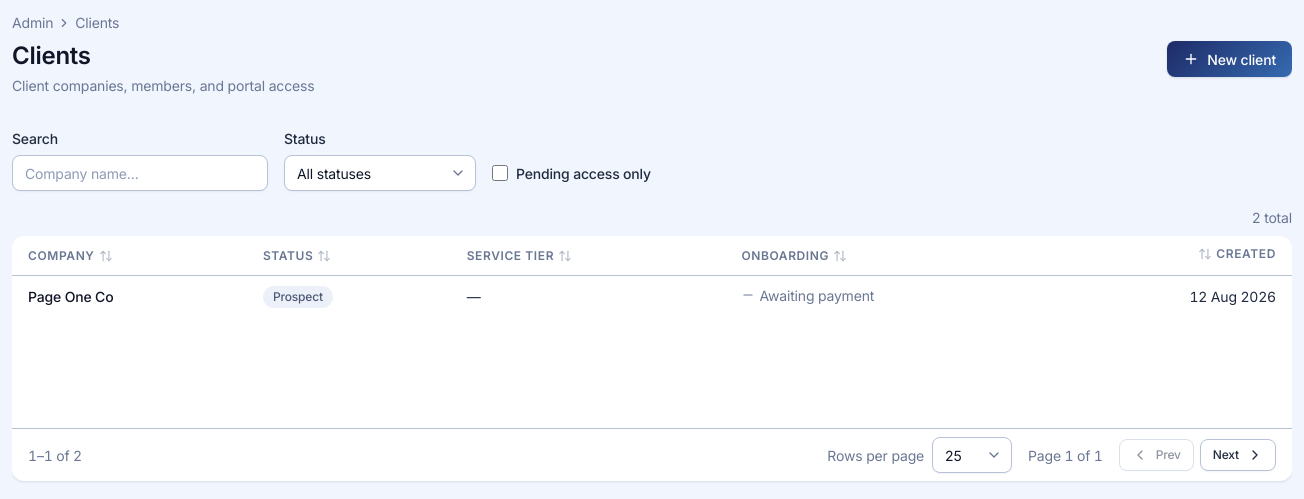
Test: clients list › sends the page size as ?limit= and resets to page 1 when it changes
Check: the text "Page One Co" is shown, box x1=28 y1=288 x2=114 y2=304
Walk to page 2, then change the page size …
Click the button with aria-label "Next page" at (1238, 455), box x1=1200 y1=439 x2=1276 y2=471
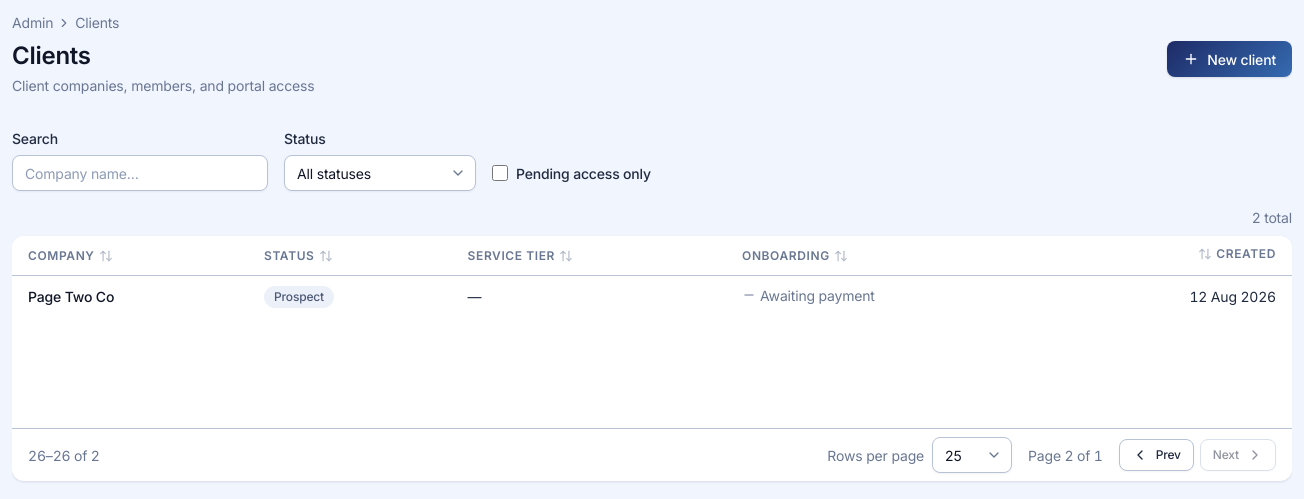
Check: the text "Page Two Co" is shown, box x1=28 y1=288 x2=114 y2=304
Select "50" in the dropdown labelled "Rows per page" at (972, 455), box x1=932 y1=437 x2=1012 y2=473
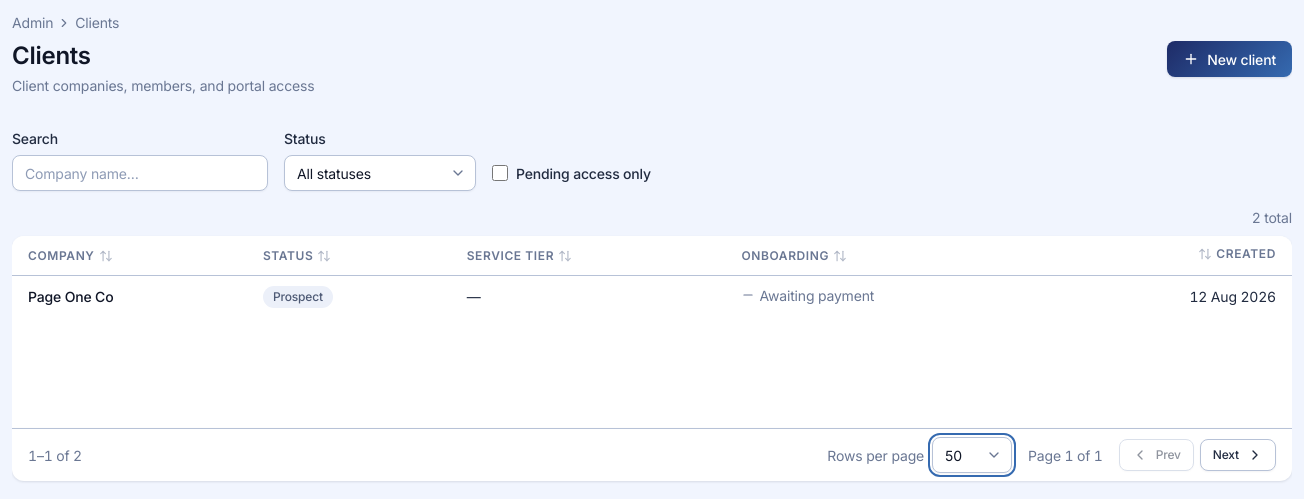
Check: the text "Page One Co" is shown, box x1=28 y1=288 x2=114 y2=304
